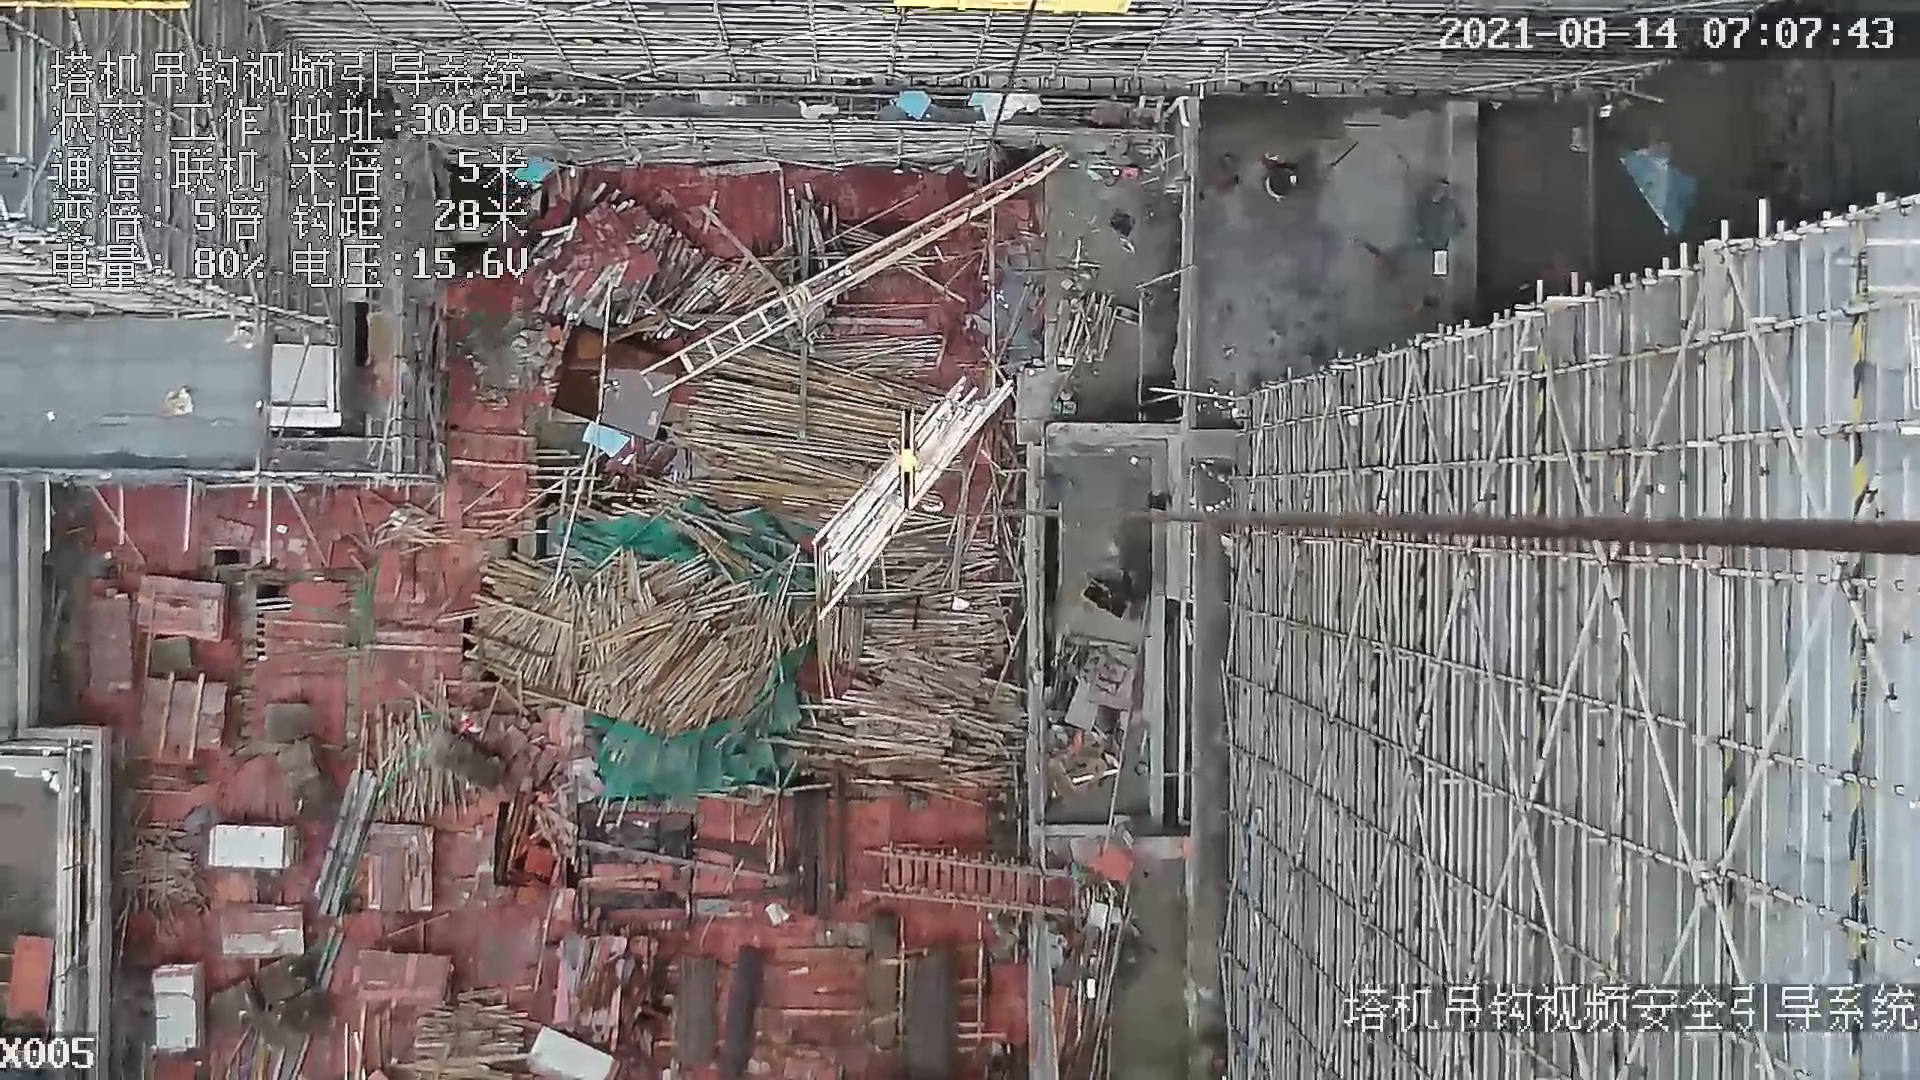hook: (891, 405, 923, 516)
